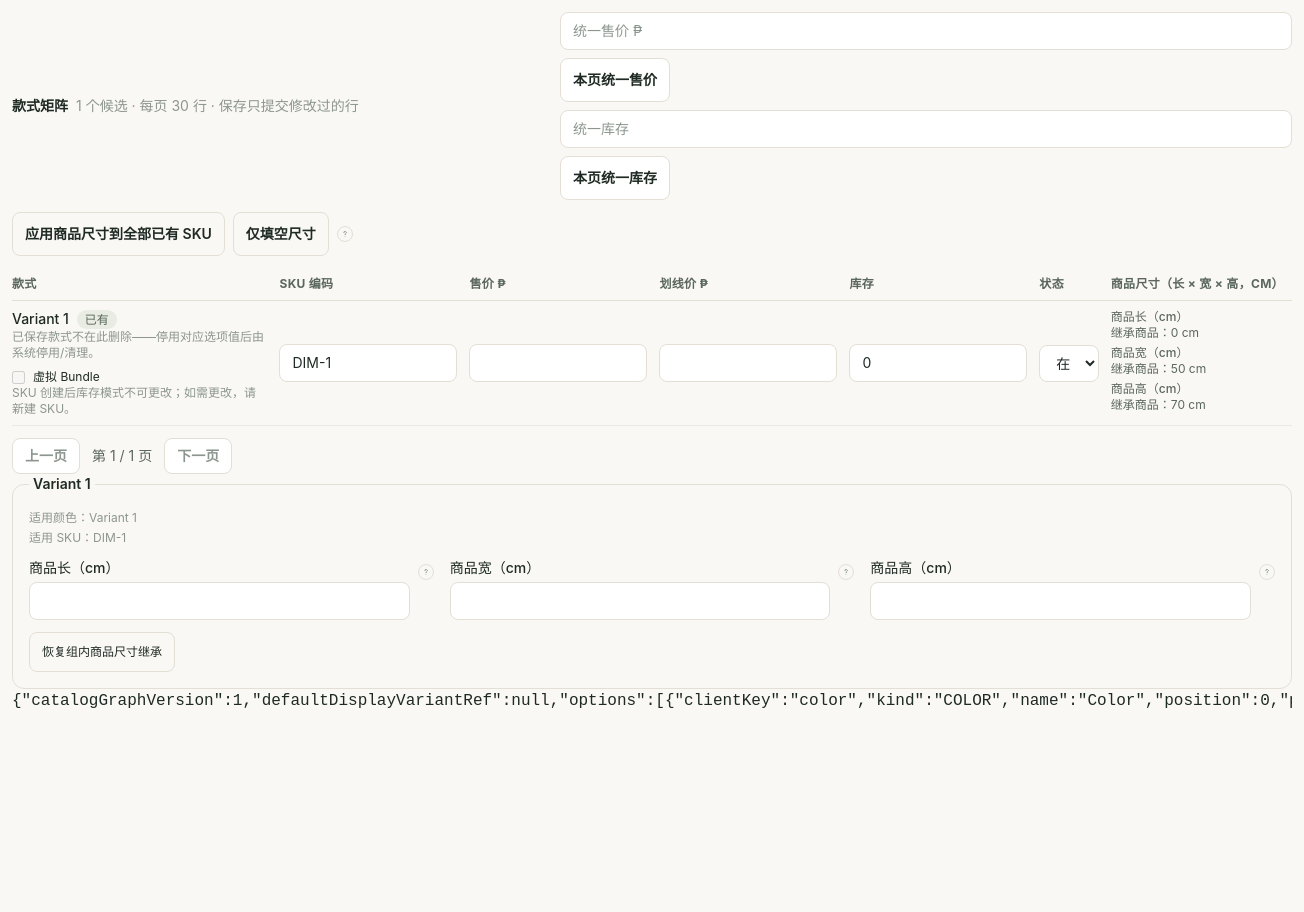
Test case: VariantMatrix › SKU product dimension editing › preserves a zero-valued product default as an explicit copied override
Check: the text "继承商品：0 cm" is shown, box x1=1111 y1=325 x2=1199 y2=340
Click the button "仅填空尺寸" at (281, 234), box x1=233 y1=212 x2=329 y2=256
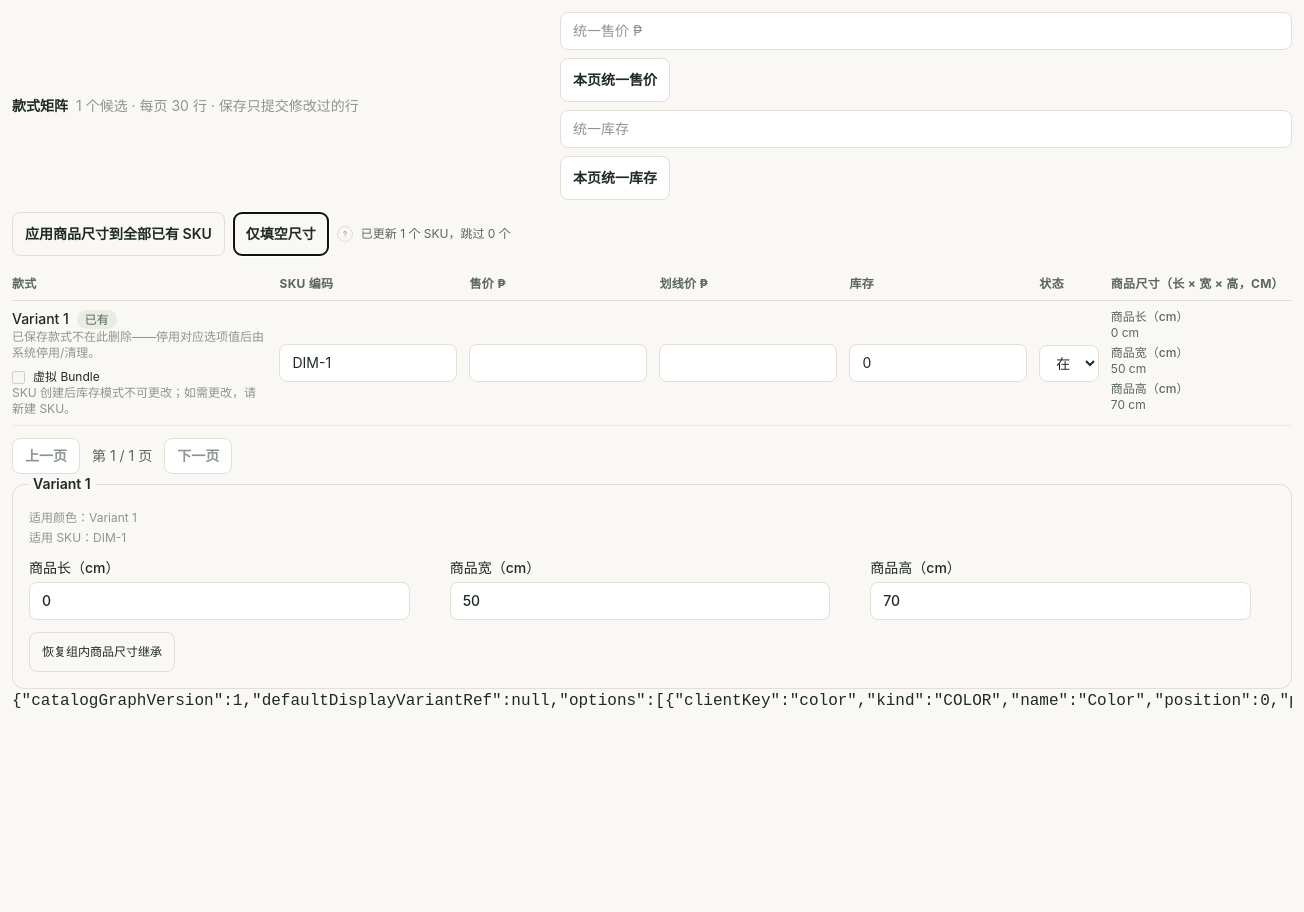
Check: the field named "Variant 1 的商品长（cm）" holds "0", box x1=29 y1=582 x2=410 y2=620
